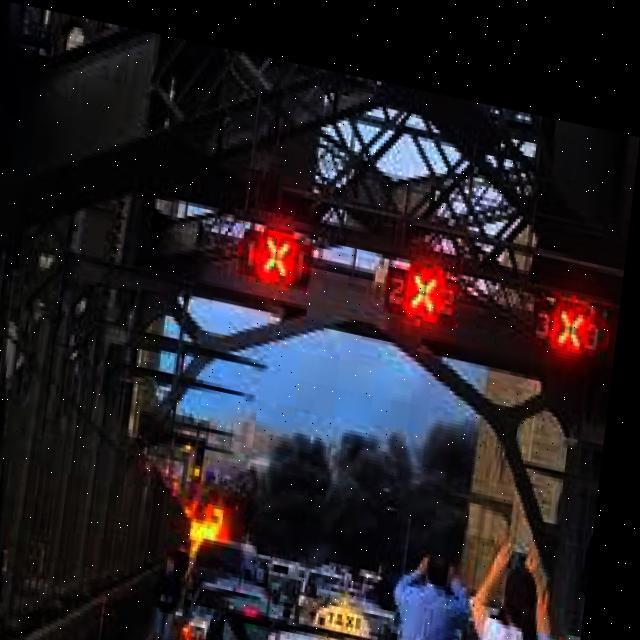Fire: (157, 440, 267, 562)
